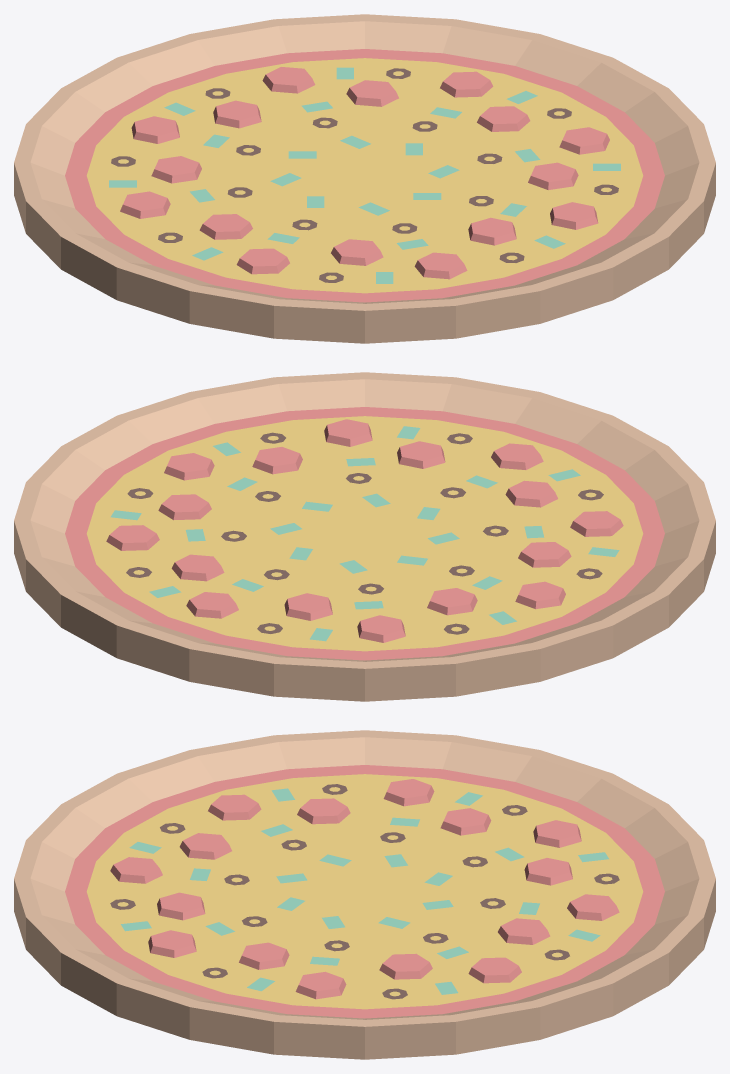
Rendered from asset.glb.
3 views of the same model, one above another, from view 1: azimuth 30°, elevation 25°; view 2: azimuth 150°, elevation 25°; view 3: azimuth 270°, elevation 25° (orthographic).
Visible parts, largest first — view 1: slice1, slice0, slice2, slice5, slice4, slice6, slice7, slice3; view 2: slice6, slice7, slice5, slice2, slice3, slice1, slice0, slice4; view 3: slice3, slice4, slice0, slice7, slice2, slice5, slice1, slice6.
Boxes of the visible parts, box(x1,y1,x2,y2) form: slice1: box(274, 176, 540, 343); slice0: box(61, 176, 364, 338); slice2: box(365, 175, 703, 323); slice5: box(190, 14, 455, 175); slice4: box(365, 19, 668, 175); slice6: box(26, 34, 364, 175); slice7: box(14, 124, 364, 268); slice3: box(366, 88, 715, 232); slice6: box(189, 534, 455, 701); slice7: box(365, 534, 668, 696); slice5: box(26, 533, 364, 681); slice2: box(274, 372, 539, 533); slice3: box(61, 377, 364, 533); slice1: box(365, 392, 703, 533); slice0: box(365, 482, 715, 626); slice4: box(14, 446, 363, 590); slice3: box(116, 892, 364, 1059); slice4: box(365, 892, 613, 1059); slice0: box(117, 730, 364, 891); slice7: box(365, 730, 612, 891); slice2: box(14, 878, 364, 1015); slice5: box(365, 878, 715, 1015); slice1: box(14, 774, 363, 891); slice6: box(366, 774, 715, 891).
Bounding box in the file's own units: 0.8418 × 0.0435 × 0.8418.
